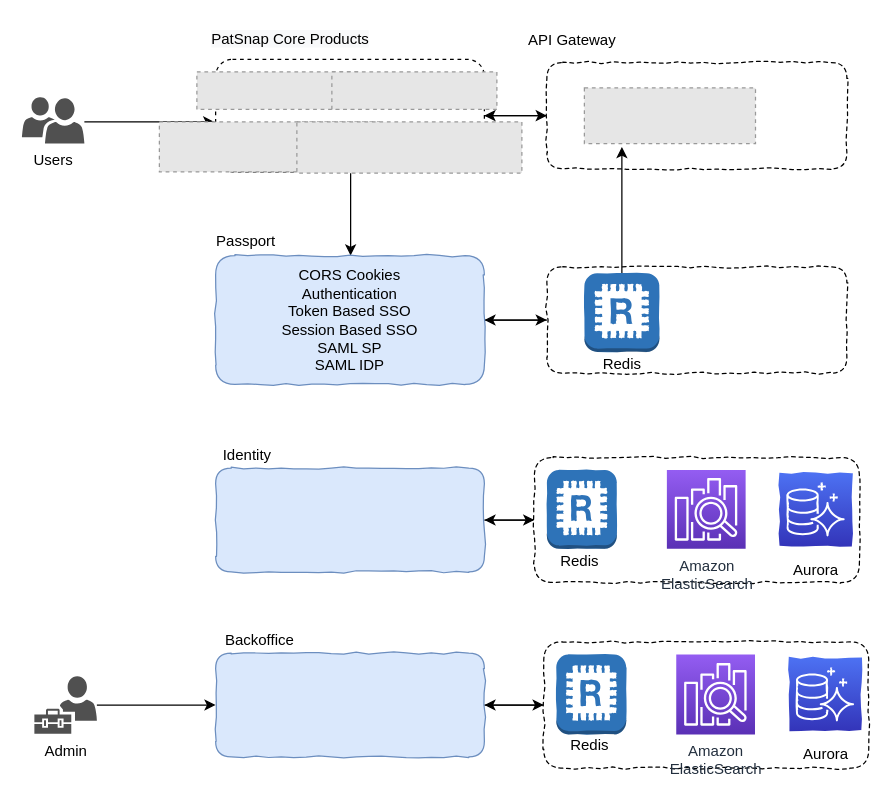
This 890x800 diagram has some shape labels left out. Grey dashed boxes stand in for pictures. Here are the shapes that lost their labels. From the top down, the centre of each, then its label:
At point (349, 519): "PatSnap Identity Provider Account Manager Resources Manager Session Manager".
At point (349, 704): "Account Manager Organization Manager Resources Manager Developer Tools".
